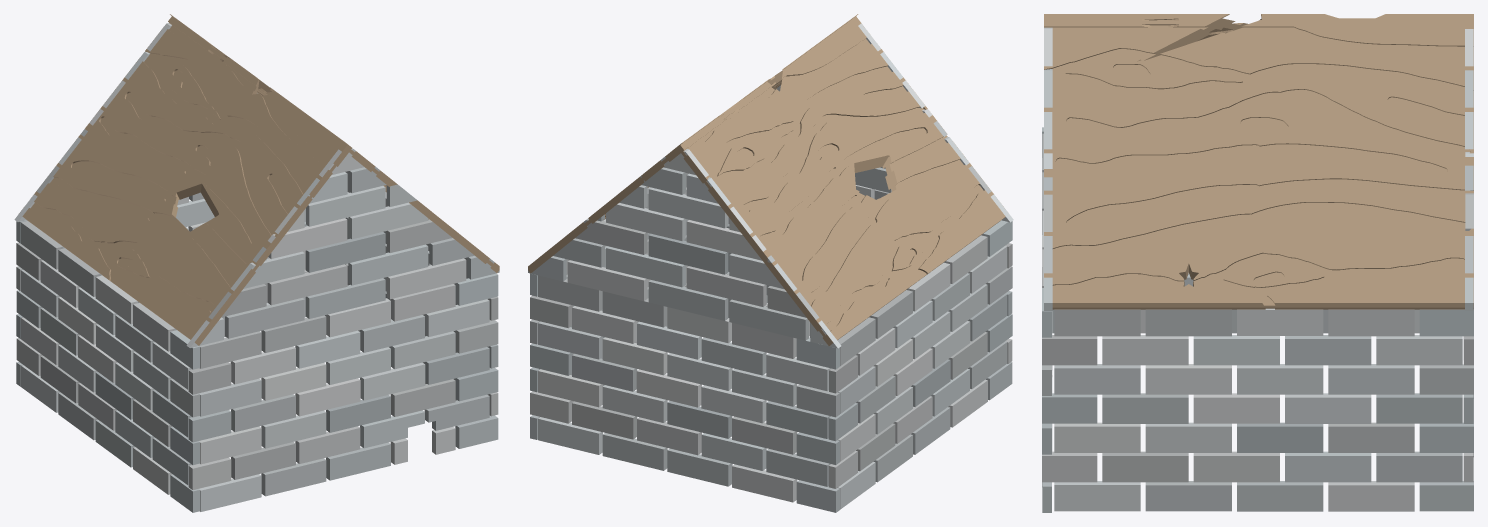
Rendered from churchRough.glb.
3 renders of one model, left to right at view 1: azimuth 30°, elevation 25°; view 2: azimuth 150°, elevation 25°; view 3: azimuth 270°, elevation 25°, orthographic. The views are drawn at different scales.
Parts seen in each view (by area): view 1: Mesh_Mesh_head_geo.001_lambert2SG.001; view 2: Mesh_Mesh_head_geo.001_lambert2SG.001; view 3: Mesh_Mesh_head_geo.001_lambert2SG.001.
Part boxes in pixels (bbox=[...]): Mesh_Mesh_head_geo.001_lambert2SG.001: bbox=[14, 14, 499, 512]; Mesh_Mesh_head_geo.001_lambert2SG.001: bbox=[528, 14, 1013, 512]; Mesh_Mesh_head_geo.001_lambert2SG.001: bbox=[1042, 14, 1473, 512].
Size of the model in its own units: 0.0488 by 0.0503 by 0.0482.
